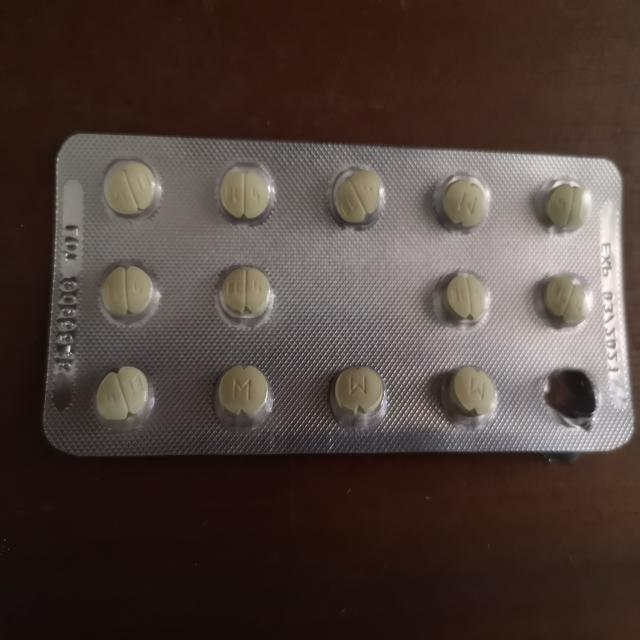Empty: (540, 358, 602, 432)
Pill: (96, 151, 170, 226), (212, 154, 284, 231), (326, 157, 389, 237), (96, 257, 164, 329), (92, 360, 160, 430), (324, 359, 392, 428), (210, 262, 280, 329), (431, 167, 494, 237), (211, 359, 276, 426), (441, 360, 503, 430), (435, 266, 499, 332), (537, 260, 594, 332), (535, 174, 598, 238)
